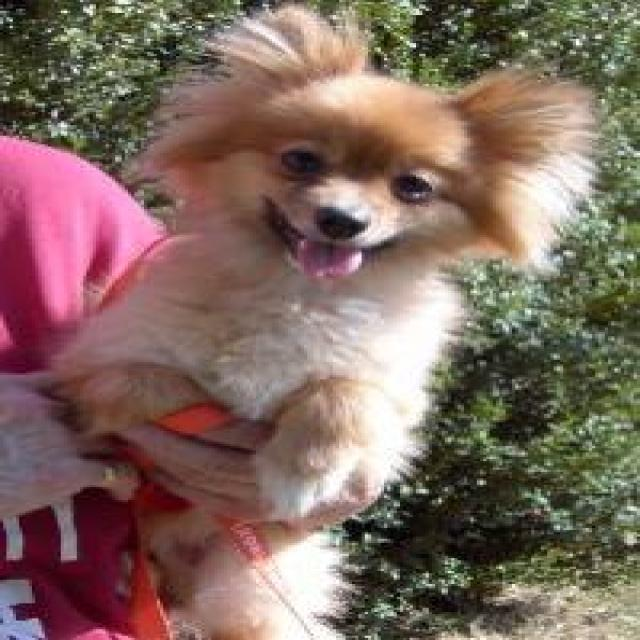dog: (0, 0, 602, 638)
